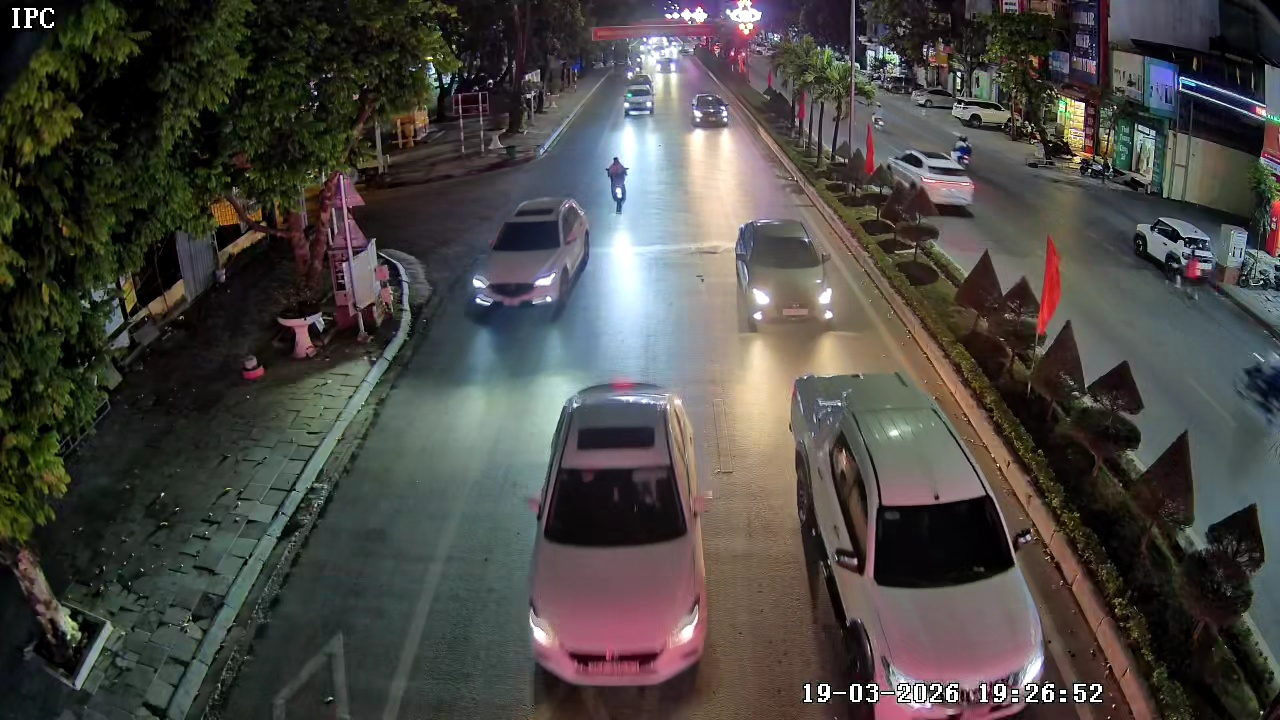car: (786, 367, 1091, 719), (525, 383, 715, 713), (469, 195, 592, 323), (734, 217, 836, 330), (867, 148, 975, 218), (692, 94, 732, 131), (623, 86, 662, 118)
motorbike: (599, 152, 638, 215)
